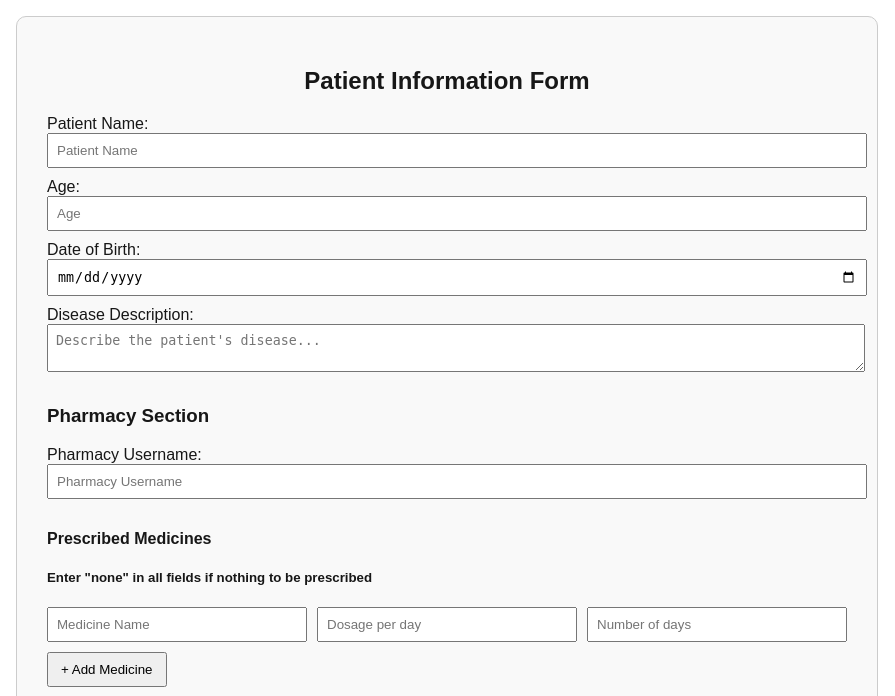
PatientForm › allows adding multiple prescribed medicine fields
Click the button "+ Add Medicine".
click(107, 670)  # box [47,652,166,687]
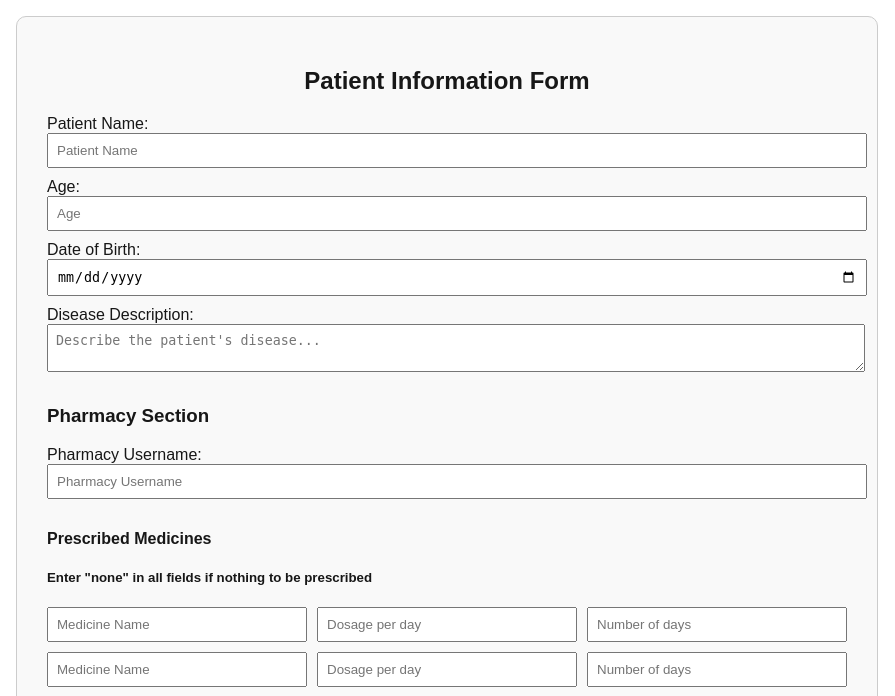
expect the number of fields with placeholder "Medicine Name" is 2: met, box [47,607,307,642]; [47,652,307,687]
